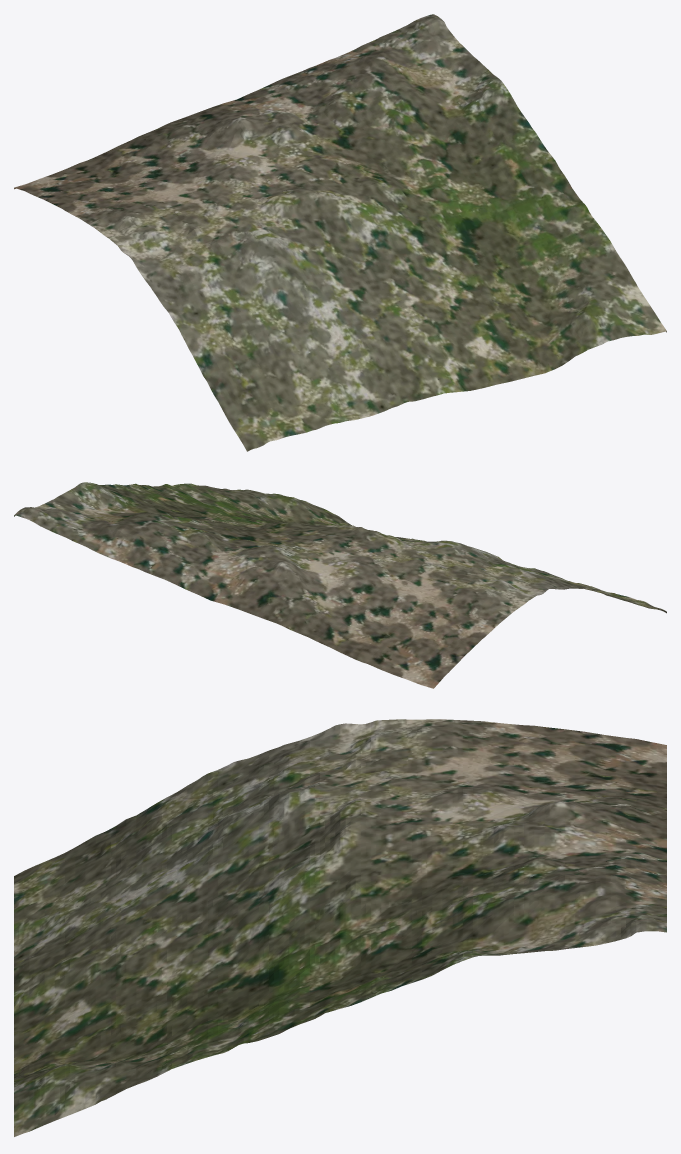
3 renders of one model, top to bottom at view 1: azimuth 30°, elevation 25°; view 2: azimuth 150°, elevation 25°; view 3: azimuth 270°, elevation 25°, orthographic. The views are drawn at different scales.
Bounding box in the file's own units: 250 × 96.61 × 241.
Materials: 1 (1 with a texture image).
